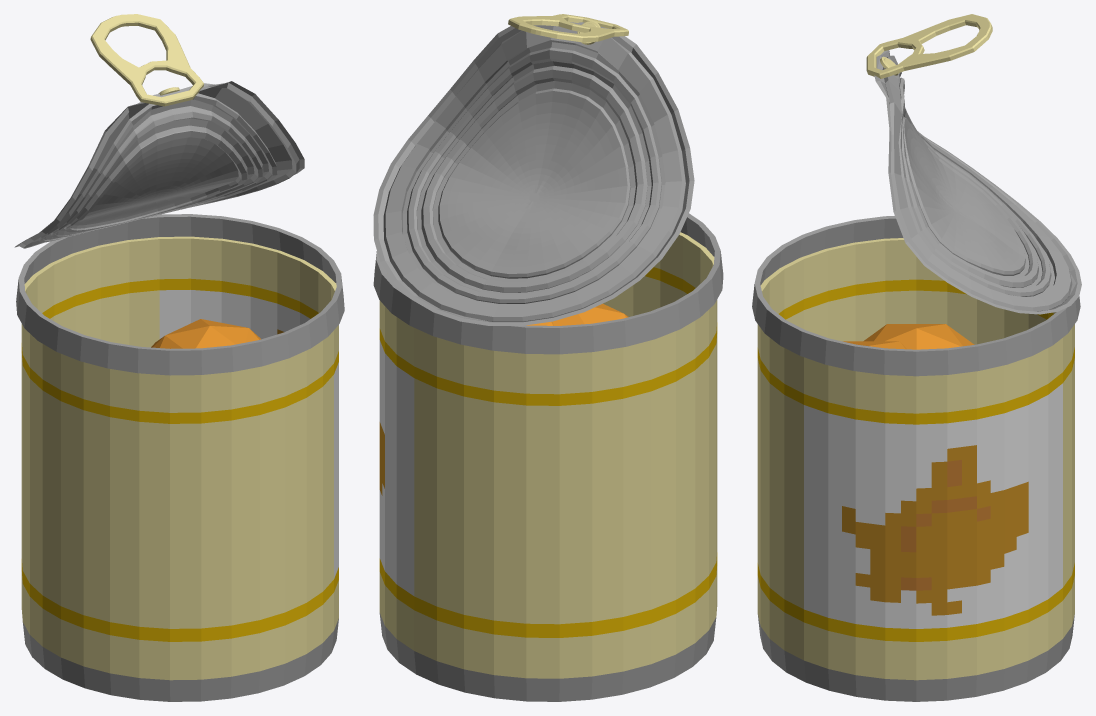
Rendered from soup_chicken(open).fbx.
The picture shows the model from 3 angles, left to right: view 1: azimuth 30°, elevation 25°; view 2: azimuth 150°, elevation 25°; view 3: azimuth 270°, elevation 25°; orthographic projection. The views are drawn at different scales.
Parts seen in each view (by area): view 1: Cylinder, Cylinder.002, Cylinder.001, Icosphere.001; view 2: Cylinder, Cylinder.002, Cylinder.001, Icosphere.002; view 3: Cylinder, Cylinder.002, Cylinder.001, Icosphere.
Part boxes in pixels (x1,y1,x2,y2): Cylinder: (16,214,344,701); Cylinder.002: (14,81,304,248); Cylinder.001: (90,14,203,106); Icosphere.001: (151,319,260,348); Cylinder: (373,213,723,701); Cylinder.002: (373,22,694,325); Cylinder.001: (508,14,628,42); Icosphere.002: (551,303,628,325); Cylinder: (752,215,1080,701); Cylinder.002: (874,50,1081,314); Cylinder.001: (866,14,992,78); Icosphere: (863,324,974,349).
Size of the model in its own units: 19.91 by 40 by 19.99.
